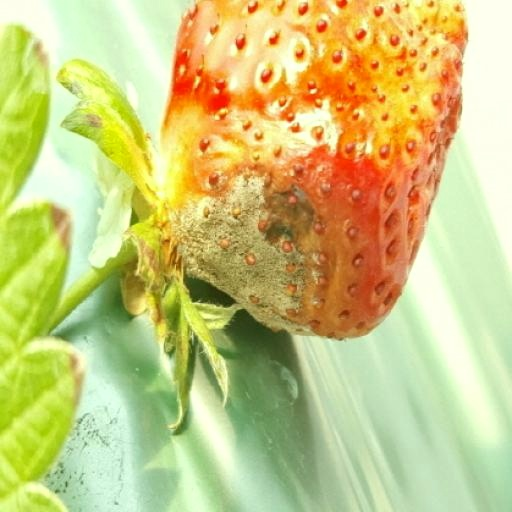Gray Mold: (153, 173, 350, 353)
